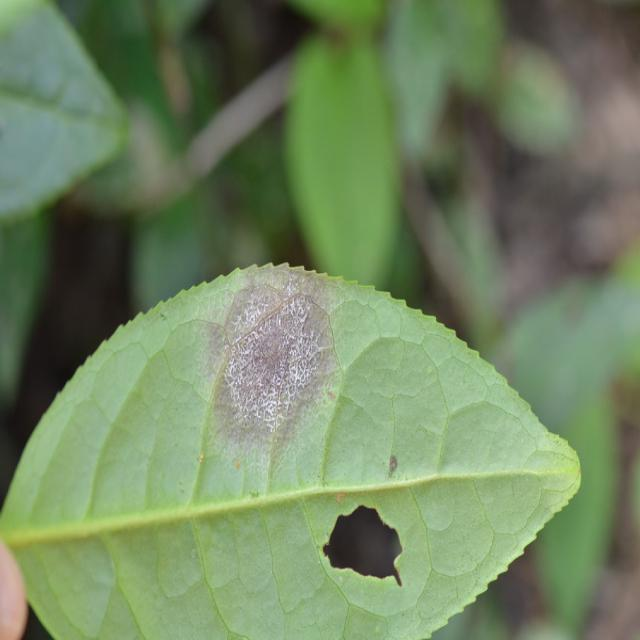Tea exobasidium blight: (211, 262, 334, 453)
